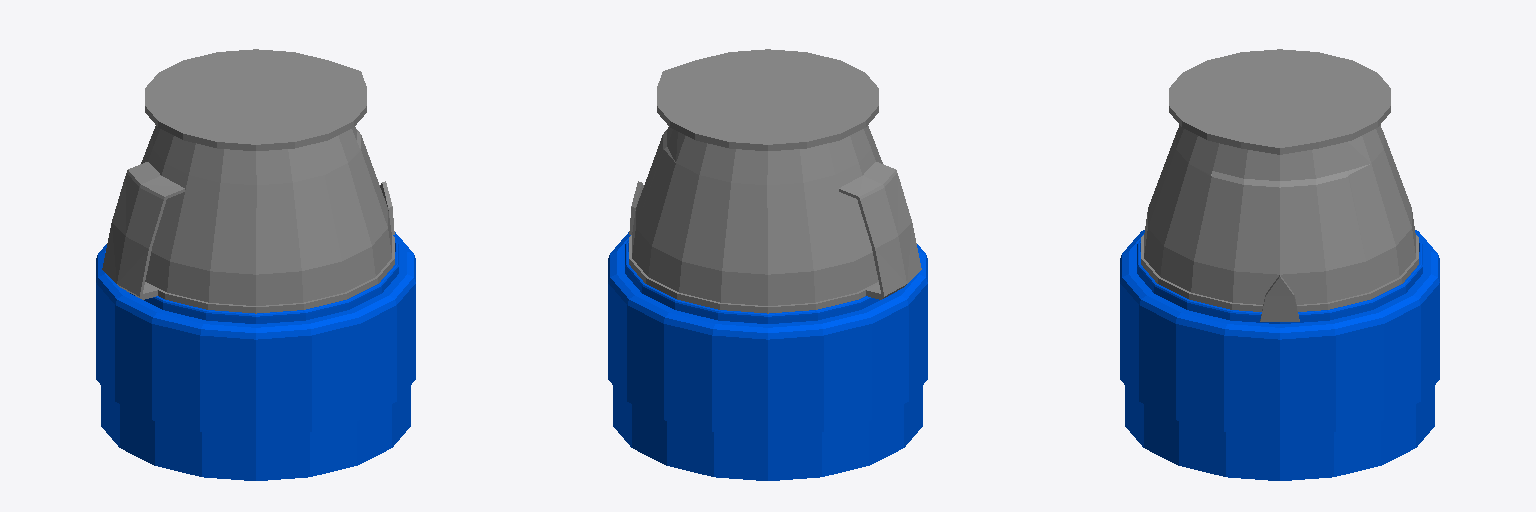
File: mdl_tapon_02.obj
The picture shows the model from 3 angles: view 1: azimuth 30°, elevation 25°; view 2: azimuth 150°, elevation 25°; view 3: azimuth 270°, elevation 25°; orthographic projection.
Visible parts, largest first — view 1: mdl_tapon_022, mdl_tapon_tapadera_02_seguridad007, mdl_tapon_tapadera_02_seguridad008, mdl_tapon_tapadera_02_seguridad006; view 2: mdl_tapon_022, mdl_tapon_tapadera_02_seguridad007, mdl_tapon_tapadera_02_seguridad008, mdl_tapon_tapadera_02_seguridad006; view 3: mdl_tapon_tapadera_02_seguridad007, mdl_tapon_022, mdl_tapon_tapadera_02_seguridad006.
Boxes of the visible parts, <box> form: mdl_tapon_022: <box>96,232,415,480</box>; mdl_tapon_tapadera_02_seguridad007: <box>141,49,394,305</box>; mdl_tapon_tapadera_02_seguridad008: <box>102,162,184,299</box>; mdl_tapon_tapadera_02_seguridad006: <box>145,235,394,313</box>; mdl_tapon_022: <box>608,232,927,480</box>; mdl_tapon_tapadera_02_seguridad007: <box>629,49,882,305</box>; mdl_tapon_tapadera_02_seguridad008: <box>839,162,921,299</box>; mdl_tapon_tapadera_02_seguridad006: <box>629,235,878,313</box>; mdl_tapon_tapadera_02_seguridad007: <box>1144,49,1415,321</box>; mdl_tapon_022: <box>1120,230,1439,480</box>; mdl_tapon_tapadera_02_seguridad006: <box>1141,235,1418,311</box>.
Bounding box in the file's own units: 3.1 × 3.35 × 3.05.